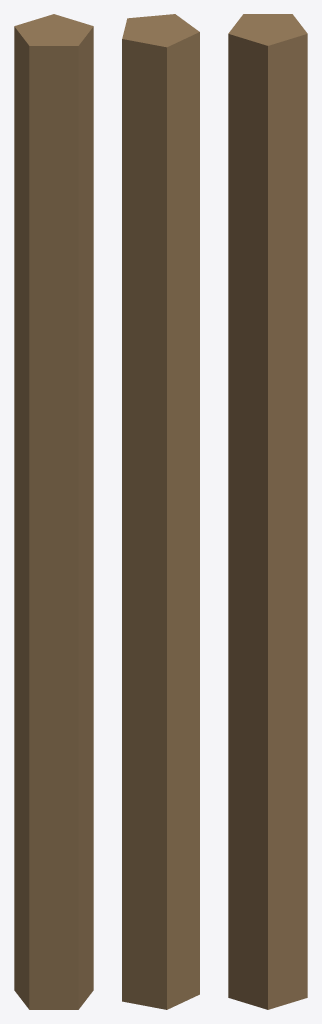
The model's file is palo.fbx.
3 renders of one model, left to right at view 1: azimuth 90°, elevation 25°; view 2: azimuth 210°, elevation 25°; view 3: azimuth 270°, elevation 25°, orthographic.
Parts seen in each view (by area): view 1: pCylinder14; view 2: pCylinder14; view 3: pCylinder14.
Boxes of the visible parts, x1,y1,x2,y2 form: pCylinder14: (14, 14, 93, 1009); pCylinder14: (122, 14, 199, 1009); pCylinder14: (228, 14, 307, 1009).
Bounding box in the file's own units: 0.2001 × 2.81 × 0.2104.
Materials: 1 (1 with a texture image).
